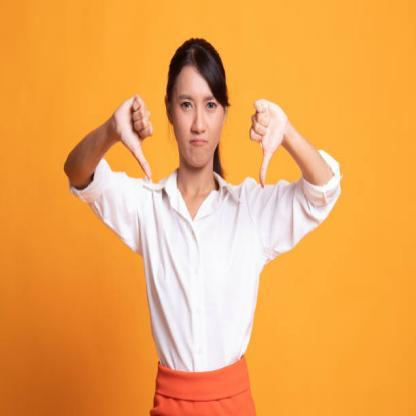thumb_down: (112, 90, 155, 182), (249, 98, 286, 192)
